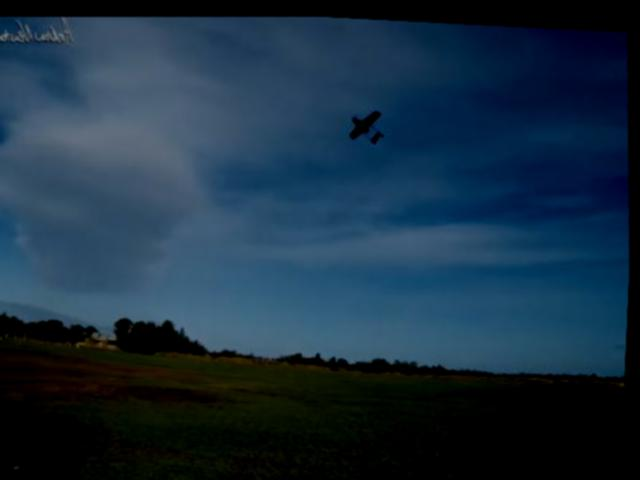uav: (344, 96, 391, 149)
